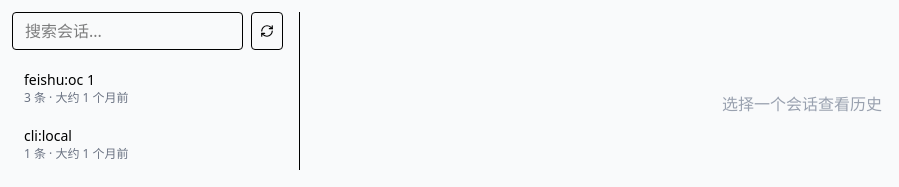
Scenario: Sessions 页 › 搜索由后端在全量会话上执行
Expected: the text "cli:local" is shown, [24,126,72,145]
Type "feishu" into the field labelled "搜索会话...".
click(128, 31); type("feishu")  # box [12,12,243,50]
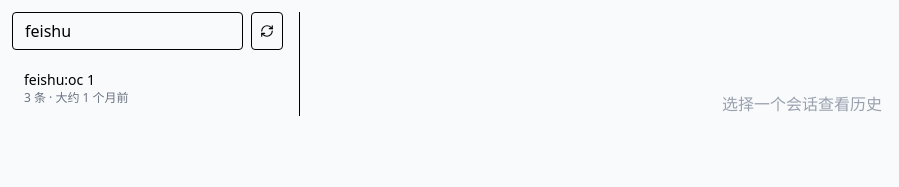
Expected: the text "feishu:oc 1" is shown, [24,70,95,89]
Expected: the button "cli:local" is gone
